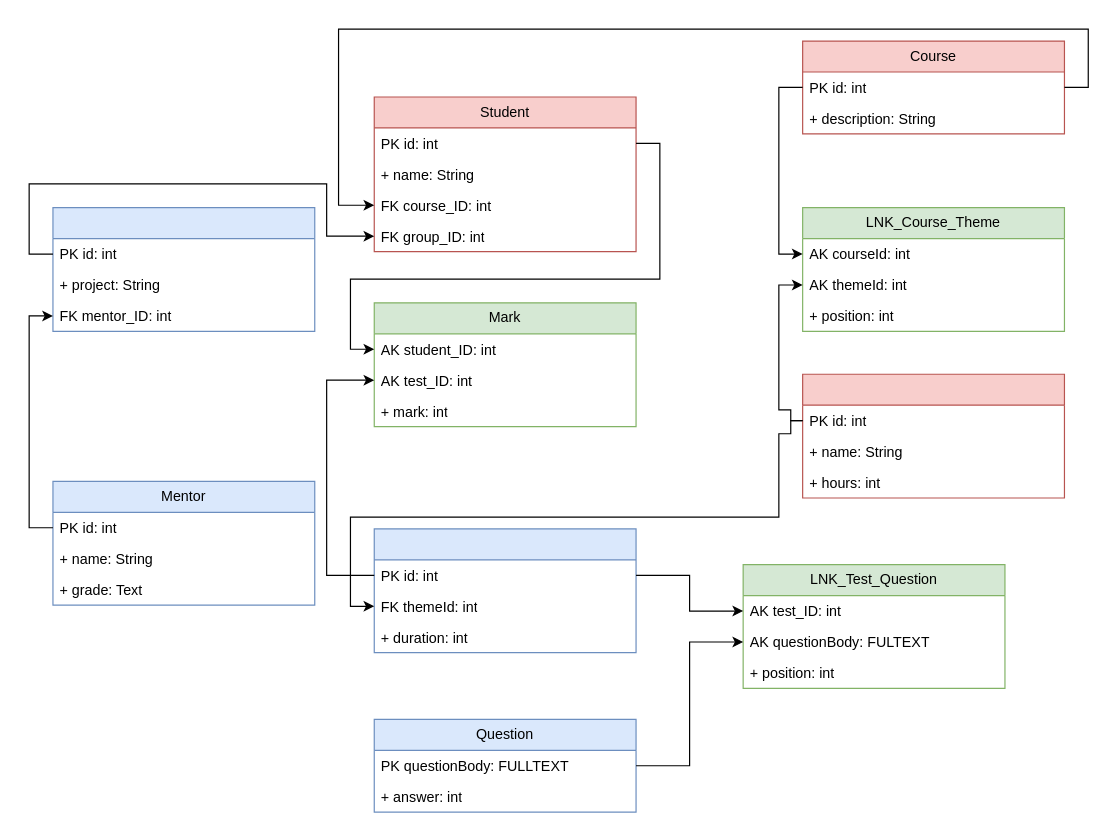
Some shapes in this 1119 by 837 pixel diagram are drawn without their labels. Each missing label, with the box of its shape:
Group: (52, 206, 315, 331)
Test: (373, 528, 636, 653)
Theme: (801, 373, 1064, 498)
